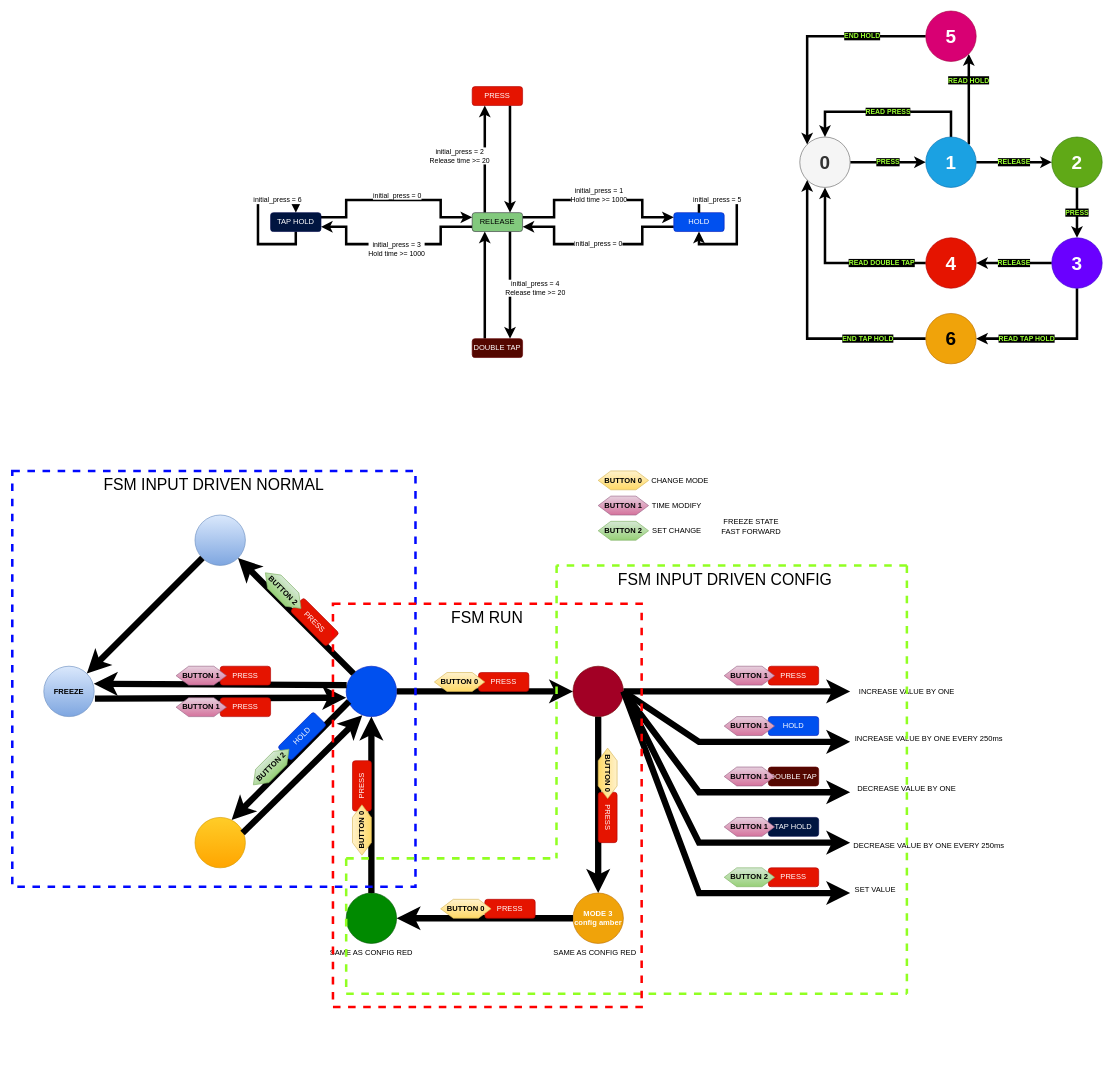
Image size: 1113x1068. Some labels were removed from this diagram. Each missing label, with the centre of its shape:
"FAST" goes at [219,842].
"FORWARD" goes at [219,539].
"MODE 1 run normal" goes at [371,691].
"MODE 2 config red" goes at [597,691].
"MODE 4 config green" goes at [371,917].
